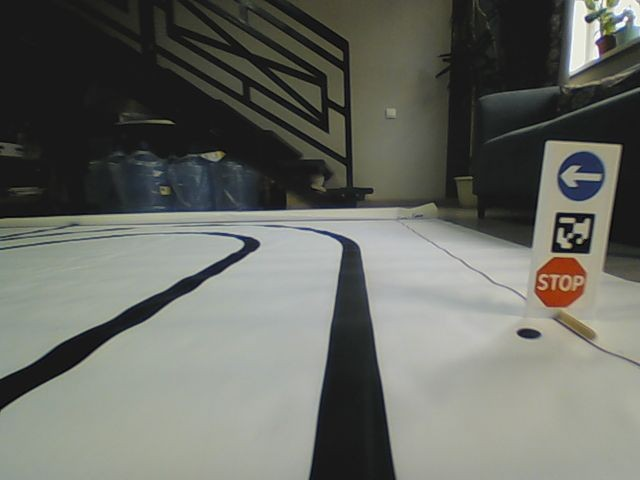Stop: (533, 256, 589, 308)
